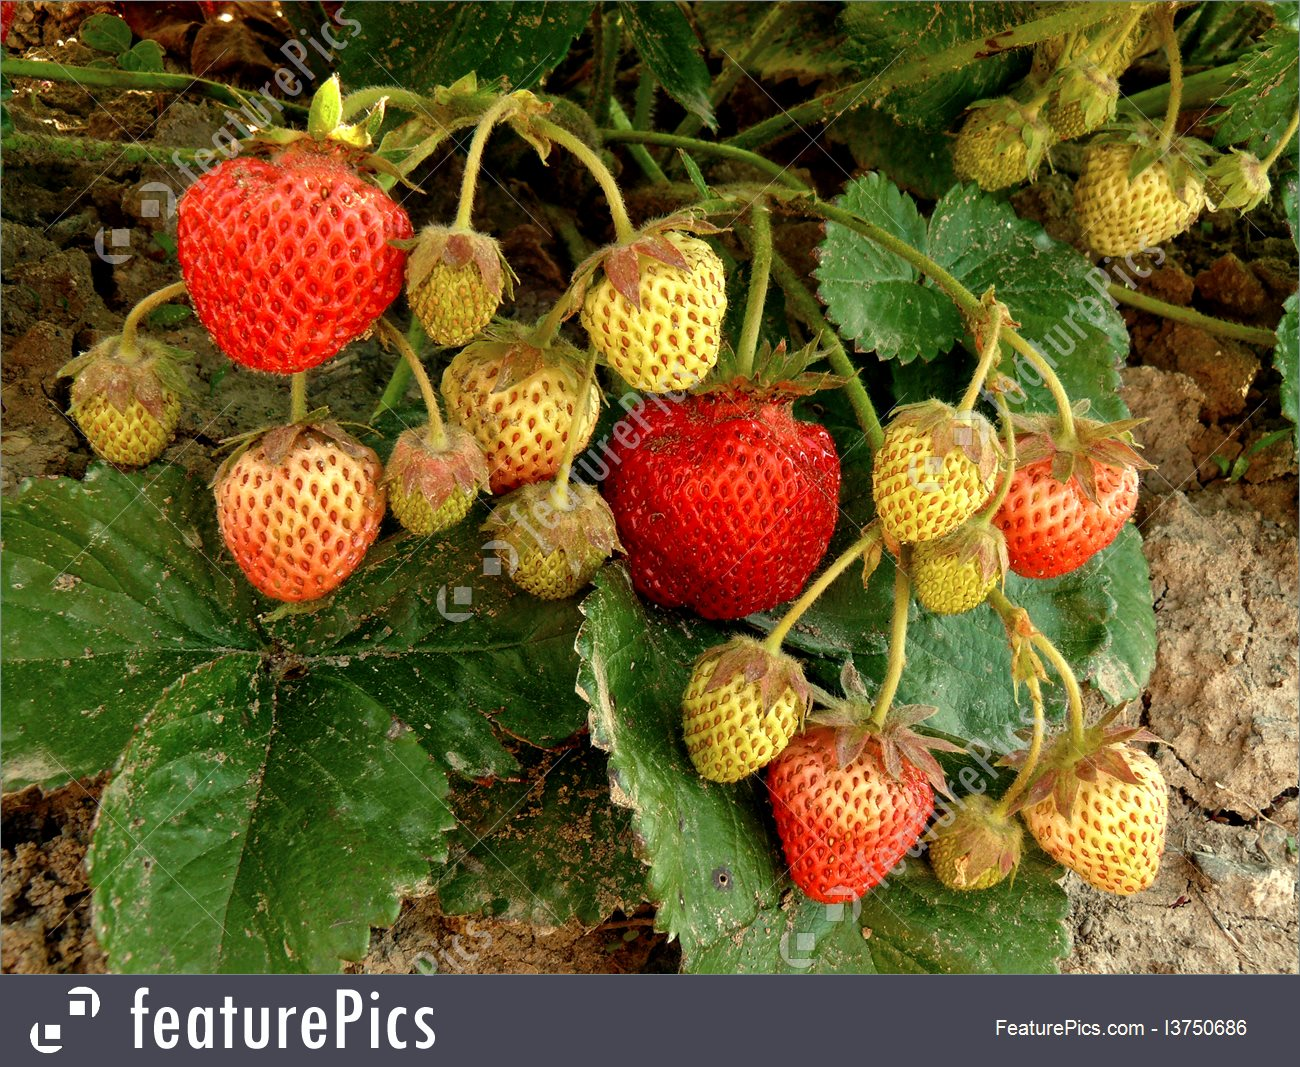ripe_strawberry: (172, 135, 416, 381), (612, 381, 847, 622), (760, 718, 949, 906), (992, 418, 1145, 581)
unripe_strawberry: (211, 421, 391, 608), (1007, 722, 1173, 899), (438, 326, 602, 497), (581, 226, 730, 394), (864, 395, 1006, 552), (676, 633, 813, 786), (1070, 126, 1205, 264), (488, 474, 623, 606), (69, 330, 189, 471), (406, 222, 510, 351), (381, 426, 495, 540), (931, 791, 1027, 903), (950, 97, 1044, 195), (915, 514, 1004, 617), (1045, 68, 1109, 145)
